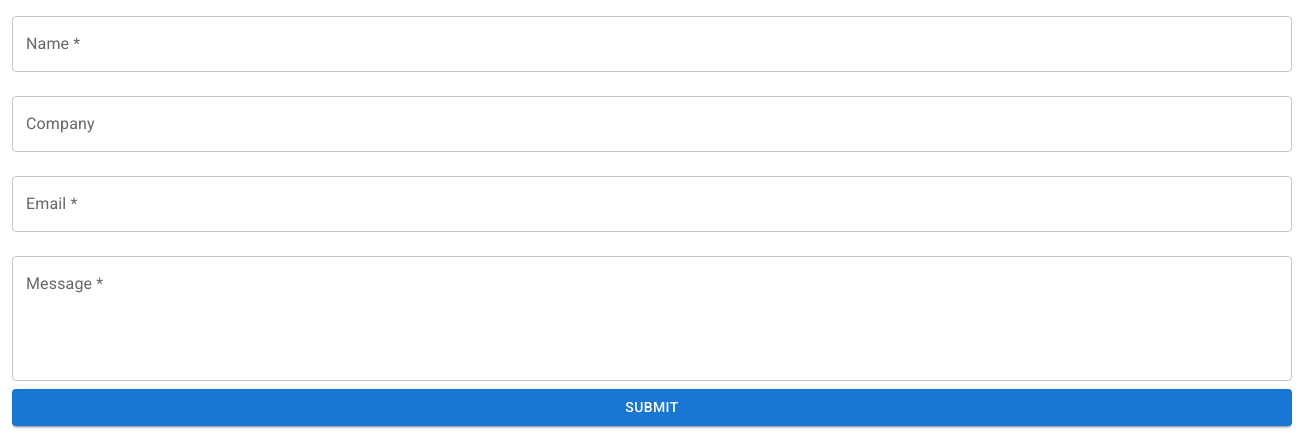
Test case: ContactForm › displays loading icon
Type "Test Name" into the field labelled "Name *" at (652, 44), box [12,16,1292,72]
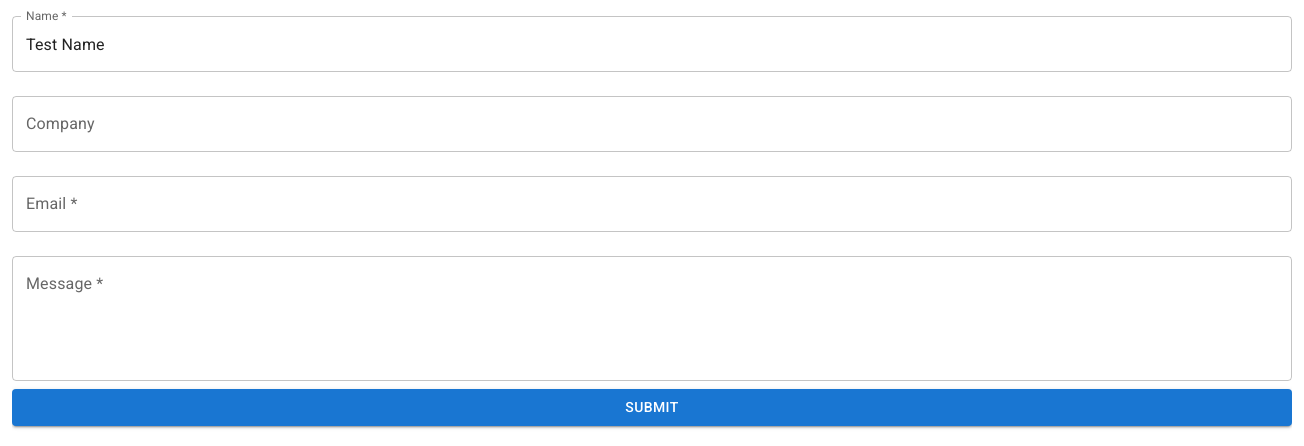
Type "Test Company" into the field labelled "Company" at (652, 124), box [12,96,1292,152]
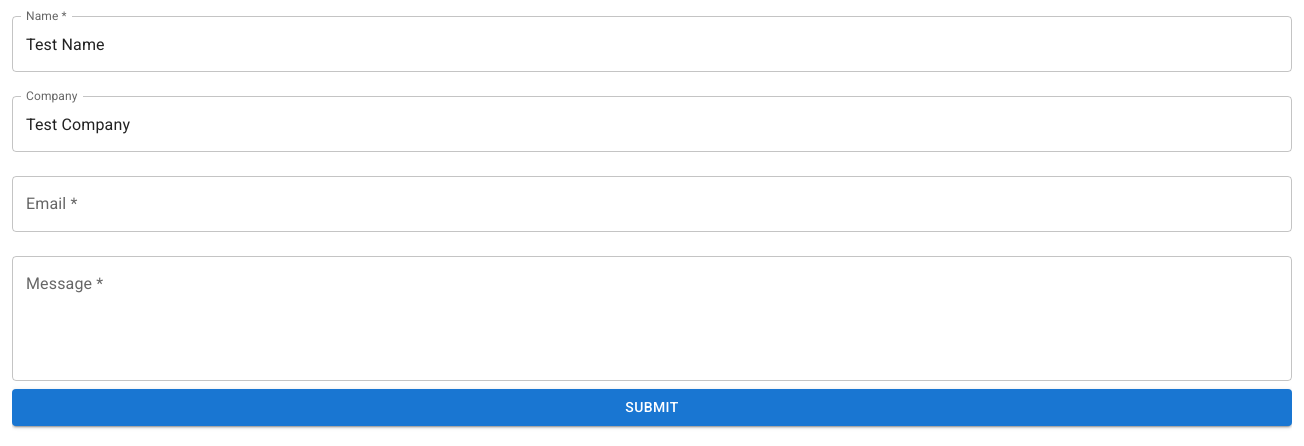
Type "test@test.com" into the field labelled "Email *" at (652, 204), box [12,176,1292,232]
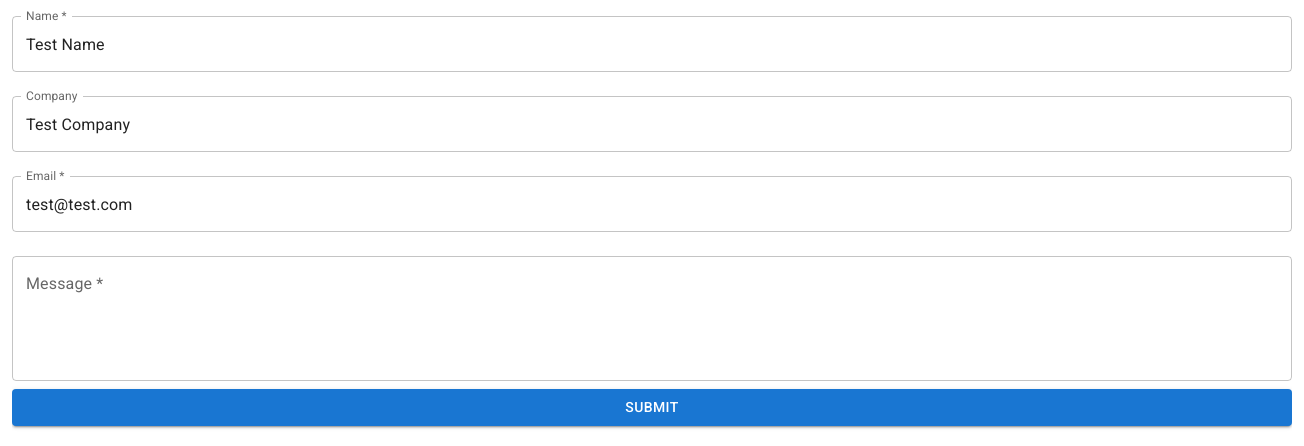
Type "Test Message" into the text box labelled "Message *" at (652, 318), box [26,272,1278,364]
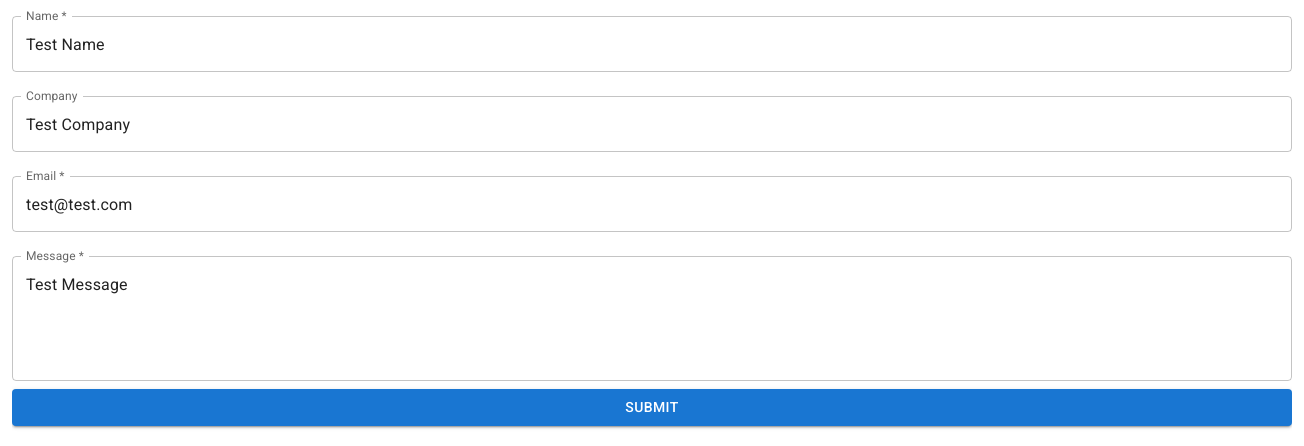
Click the button "Submit" at (652, 407), box [12,389,1292,426]
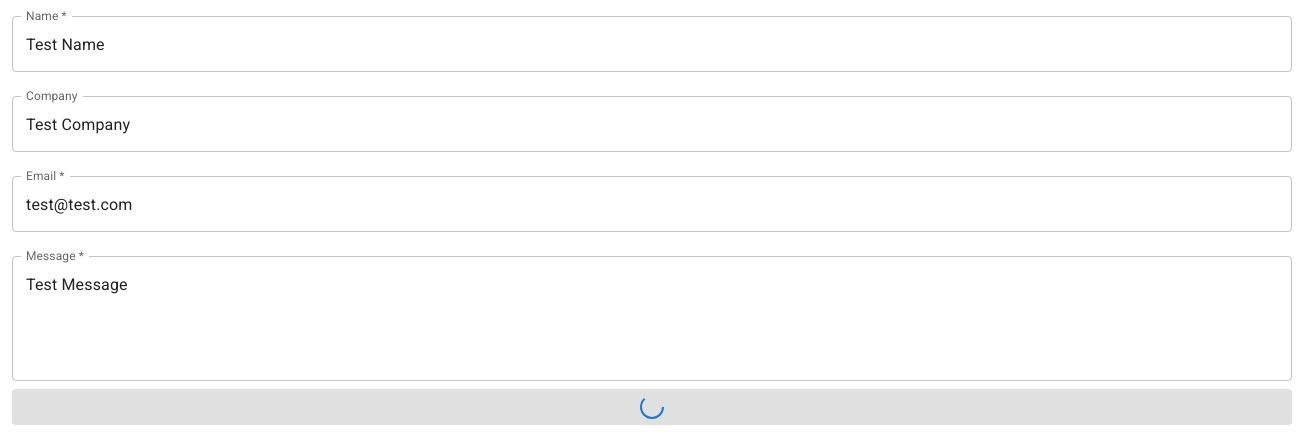
Expected: the progress indicator named "loading" is shown, [640,395,664,419]
